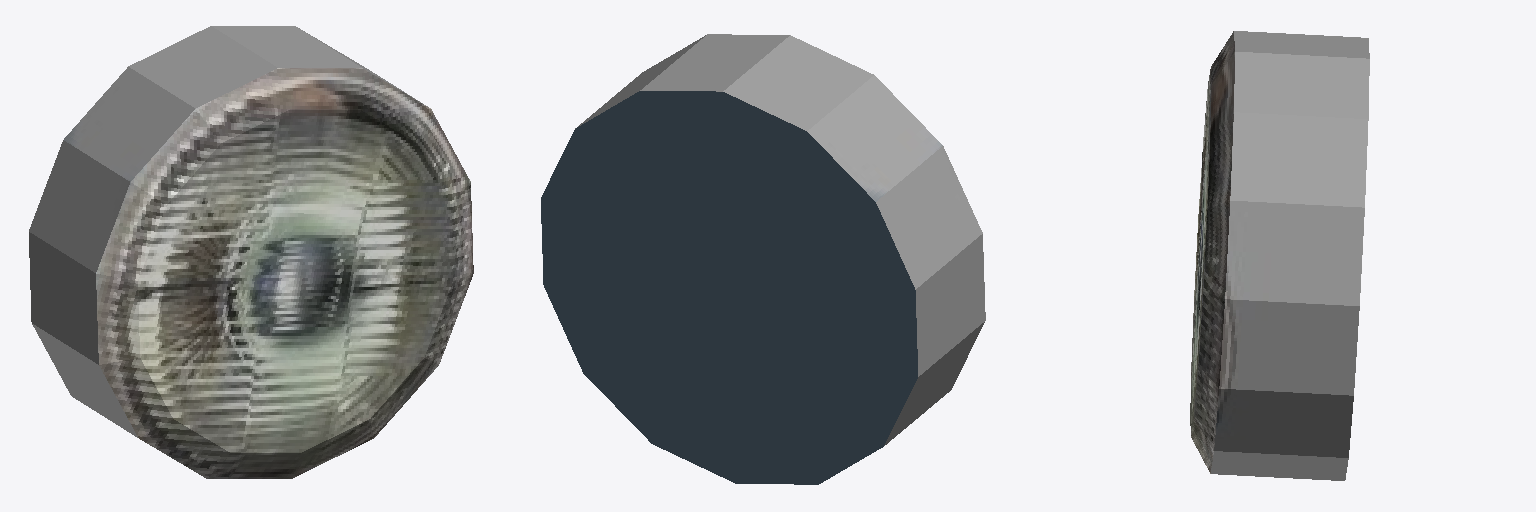
3 renders of one model, left to right at view 1: azimuth 30°, elevation 25°; view 2: azimuth 150°, elevation 25°; view 3: azimuth 270°, elevation 25°, orthographic.
Parts seen in each view (by area): view 1: car_light1; view 2: car_light1; view 3: car_light1.
Part boxes in pixels (x1,y1,x2,y2): car_light1: (29, 26, 473, 478); car_light1: (541, 34, 985, 484); car_light1: (1190, 31, 1369, 480).
Size of the model in its own units: 0.4965 by 0.5174 by 0.2061.
Materials: 1 (1 with a texture image).